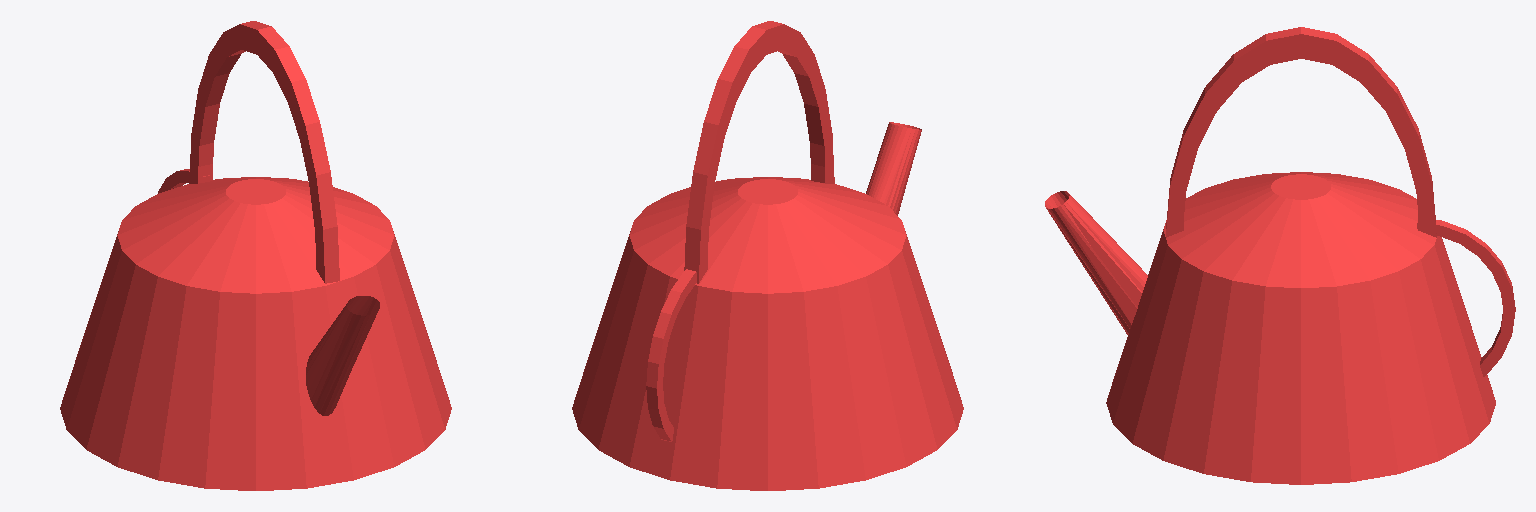
URDF robot description (teaKettle_1):
<robot
  name="teaKettle_1">
  <link name="teaKettle_1">
    <inertial>
      <origin xyz="0.0 0.0 0.0" rpy="0 0 0"/>
      <mass value="0.4"/>
      <inertia ixx="1" ixy="0.0" ixz="0.0" iyy="1" iyz="0.0" izz="1" />
    </inertial>

    <visual>
      <geometry>
        <mesh filename="../meshes/teaKettle_1.dae" scale="1 1 1" />
      </geometry>
     </visual>

    <collision>
      <geometry>
        <mesh filename="../meshes/teaKettle_1.dae" scale="1 1 1" />
      </geometry>
    </collision>

  </link>
</robot>

--- Render facts (derived) ---
3 views of the same robot in one strip: view 1: azimuth 30°, elevation 25°; view 2: azimuth 150°, elevation 25°; view 3: azimuth 270°, elevation 25° (orthographic).
Model teaKettle_1 with 1 links and 0 joints (none), rooted at teaKettle_1, posed every joint at zero.
Links seen in each view (by area): view 1: teaKettle_1; view 2: teaKettle_1; view 3: teaKettle_1.
Boxes of the visible links, x1,y1,x2,y2 form: teaKettle_1: (60,21,451,490); teaKettle_1: (572,21,963,490); teaKettle_1: (1045,27,1515,484).
Bounding box of the posed robot: 0.2459 × 0.2969 × 0.2618 m (x, y, z).
Meshes: 1 distinct files referenced, 1 mesh visuals loaded (1 Collada DAE).